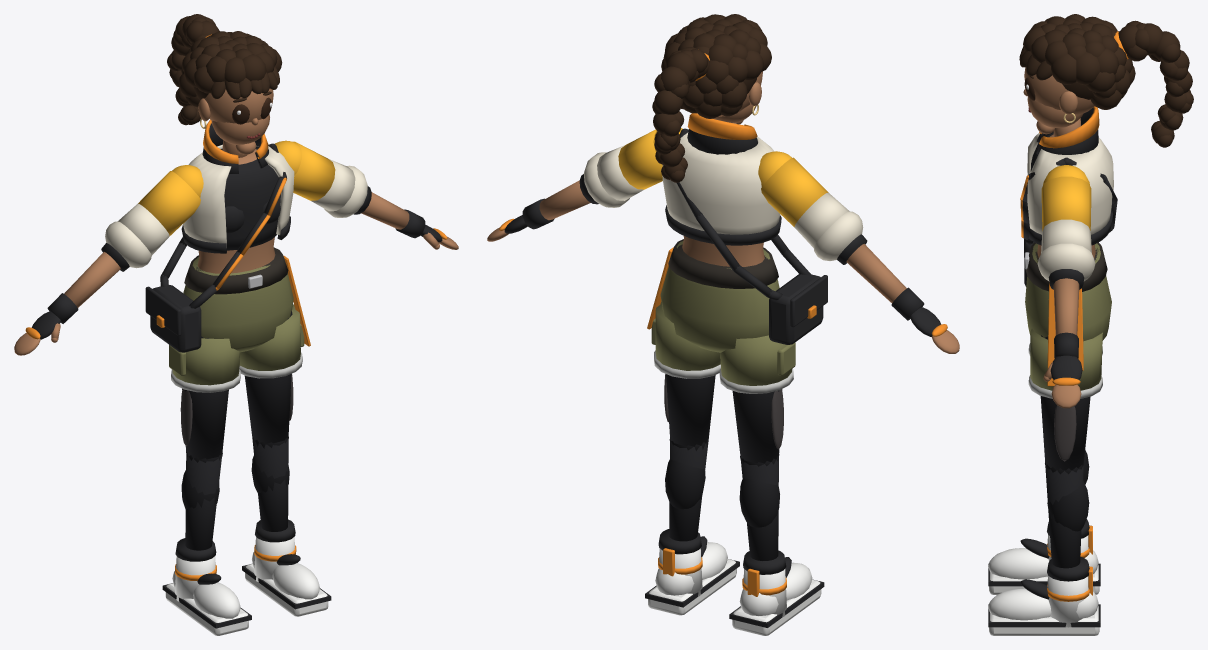
File: yun_urban_v01_blockout.glb
The picture shows the model from 3 angles, left to right: view 1: azimuth 30°, elevation 25°; view 2: azimuth 150°, elevation 25°; view 3: azimuth 270°, elevation 25°; orthographic projection. The views are drawn at different scales.
Visible parts, largest first — view 1: Shorts, Leg_L, Sleeve_R, Leg_R, Sneaker_R, Sneaker_L, Hair_Curls, Sleeve_L, Jacket, Crop_Top, Bag, Head (+11 smaller); view 2: Shorts, Jacket, Hair_Curls, Leg_L, Sleeve_R, Leg_R, Sneaker_R, Sneaker_L, Hair_Ponytail, Sleeve_L, Bag, Belt (+9 smaller); view 3: Hair_Curls, Sneaker_L, Sleeve_L, Leg_L, Shorts, Hair_Ponytail, Jacket, Sneaker_R, Head, Jacket_Collar, Glove_L, Arm_L (+8 smaller).
Part boxes in pixels (x1=…): Shorts: x1=169, y1=257, x2=304, y2=392; Leg_L: x1=244, y1=311, x2=292, y2=531; Sleeve_R: x1=101, y1=165, x2=203, y2=271; Leg_R: x1=181, y1=336, x2=228, y2=550; Sneaker_R: x1=162, y1=538, x2=251, y2=635; Sneaker_L: x1=242, y1=519, x2=331, y2=616; Hair_Curls: x1=178, y1=31, x2=282, y2=106; Sleeve_L: x1=275, y1=140, x2=371, y2=217; Jacket: x1=183, y1=144, x2=294, y2=247; Crop_Top: x1=222, y1=148, x2=280, y2=250; Bag: x1=145, y1=285, x2=201, y2=352; Head: x1=198, y1=88, x2=273, y2=154; Shorts: x1=651, y1=241, x2=795, y2=393; Jacket: x1=662, y1=132, x2=780, y2=234; Hair_Curls: x1=661, y1=14, x2=771, y2=118; Leg_L: x1=665, y1=374, x2=715, y2=541; Sleeve_R: x1=758, y1=151, x2=867, y2=264; Leg_R: x1=732, y1=389, x2=782, y2=560; Sneaker_R: x1=729, y1=550, x2=824, y2=635; Sneaker_L: x1=645, y1=529, x2=739, y2=615; Hair_Ponytail: x1=652, y1=47, x2=709, y2=182; Sleeve_L: x1=579, y1=128, x2=682, y2=207; Bag: x1=769, y1=274, x2=827, y2=344; Belt: x1=668, y1=239, x2=778, y2=288; Hair_Curls: x1=1023, y1=14, x2=1135, y2=109; Sneaker_L: x1=988, y1=556, x2=1100, y2=635; Sleeve_L: x1=1037, y1=165, x2=1095, y2=289; Leg_L: x1=1040, y1=335, x2=1090, y2=568; Shorts: x1=1025, y1=243, x2=1111, y2=398; Hair_Ponytail: x1=1118, y1=20, x2=1193, y2=147; Jacket: x1=1027, y1=133, x2=1113, y2=234; Sneaker_R: x1=988, y1=519, x2=1100, y2=594; Head: x1=1023, y1=67, x2=1094, y2=134; Jacket_Collar: x1=1036, y1=106, x2=1099, y2=154; Glove_L: x1=1050, y1=332, x2=1082, y2=385; Arm_L: x1=1053, y1=278, x2=1079, y2=335.
Bounding box in the file's own units: 1.33 × 1.6 × 0.5115.
